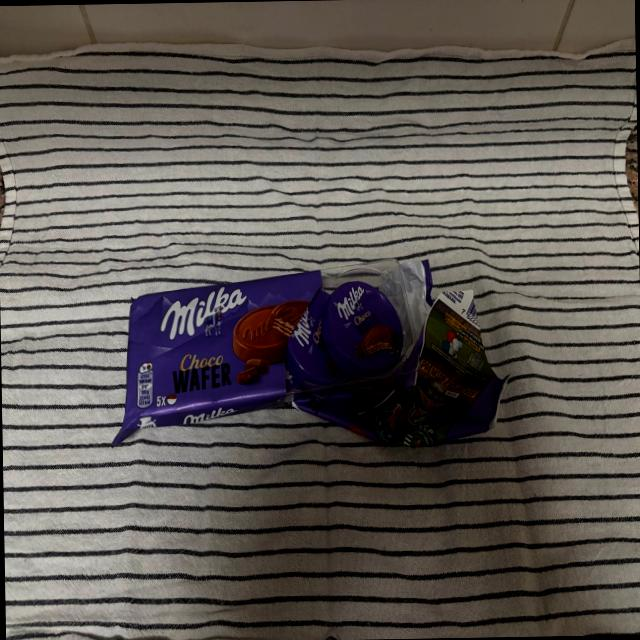damaged_package: (110, 256, 508, 453)
